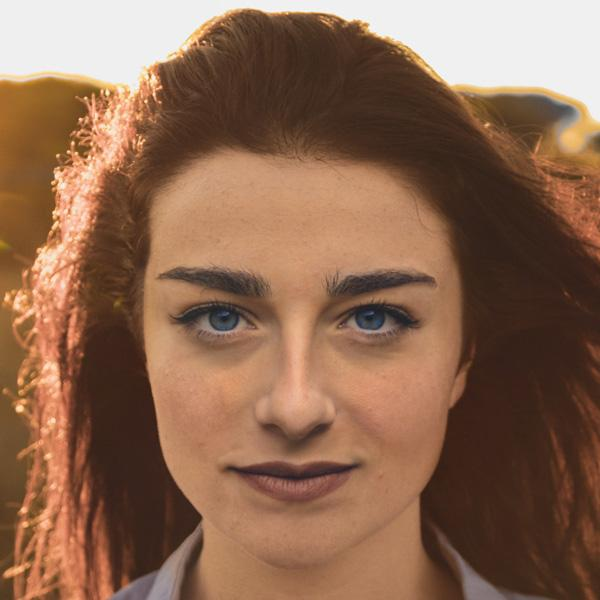Eyes: (161, 290, 277, 355), (315, 295, 434, 354)
